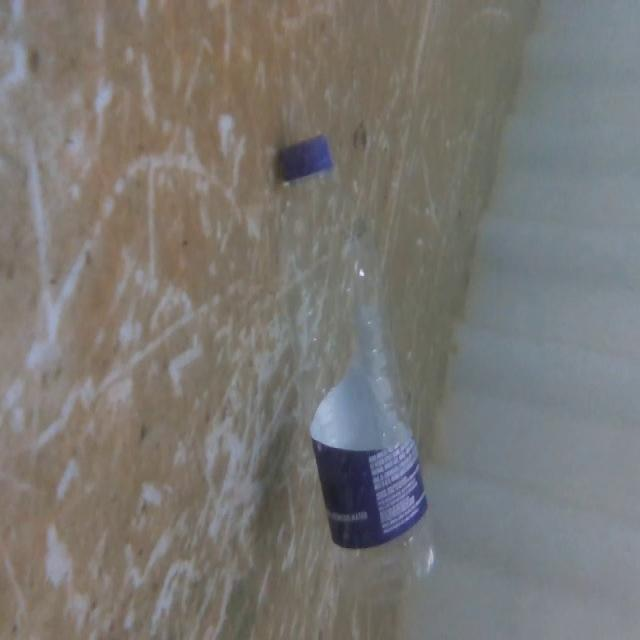plastic bottle: (274, 132, 447, 601)
